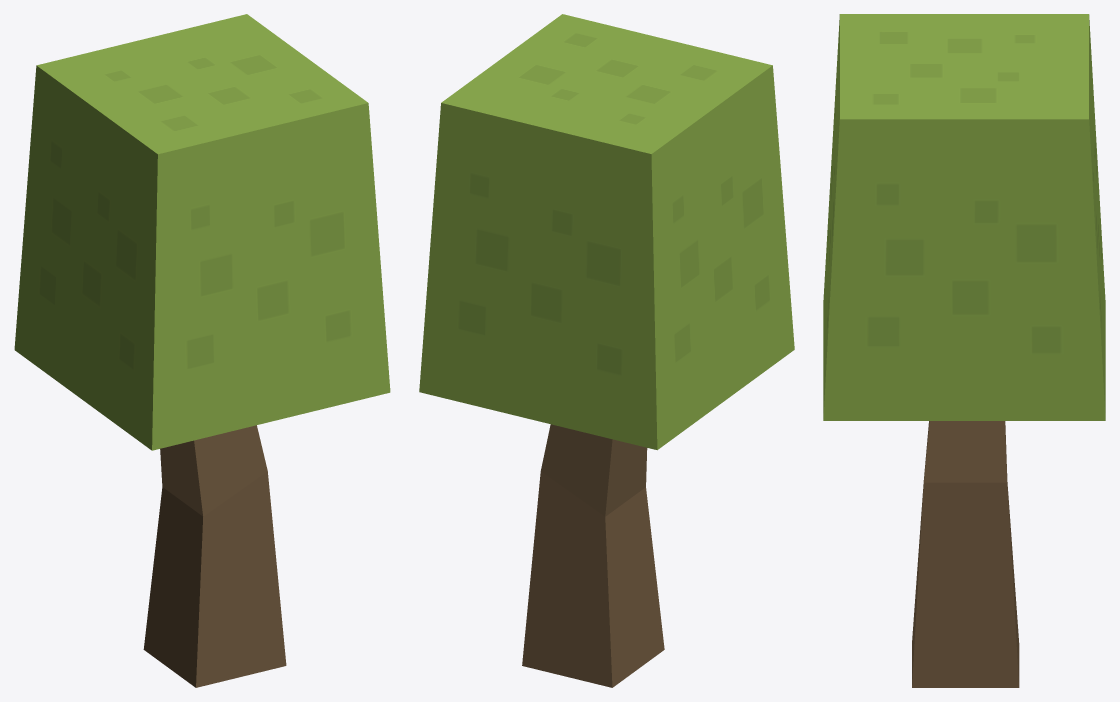
The model's file is Tree_09.fbx.
3 views of the same model, side by side, from view 1: azimuth 30°, elevation 25°; view 2: azimuth 150°, elevation 25°; view 3: azimuth 270°, elevation 25° (orthographic). The views are drawn at different scales.
Visible parts, largest first — view 1: Tree_09; view 2: Tree_09; view 3: Tree_09.
Part boxes in pixels (x1,y1,x2,y2): Tree_09: (14,14,390,687); Tree_09: (419,14,794,687); Tree_09: (823,14,1105,687).
Bounding box in the file's own units: 1.57 × 3.64 × 1.57.
